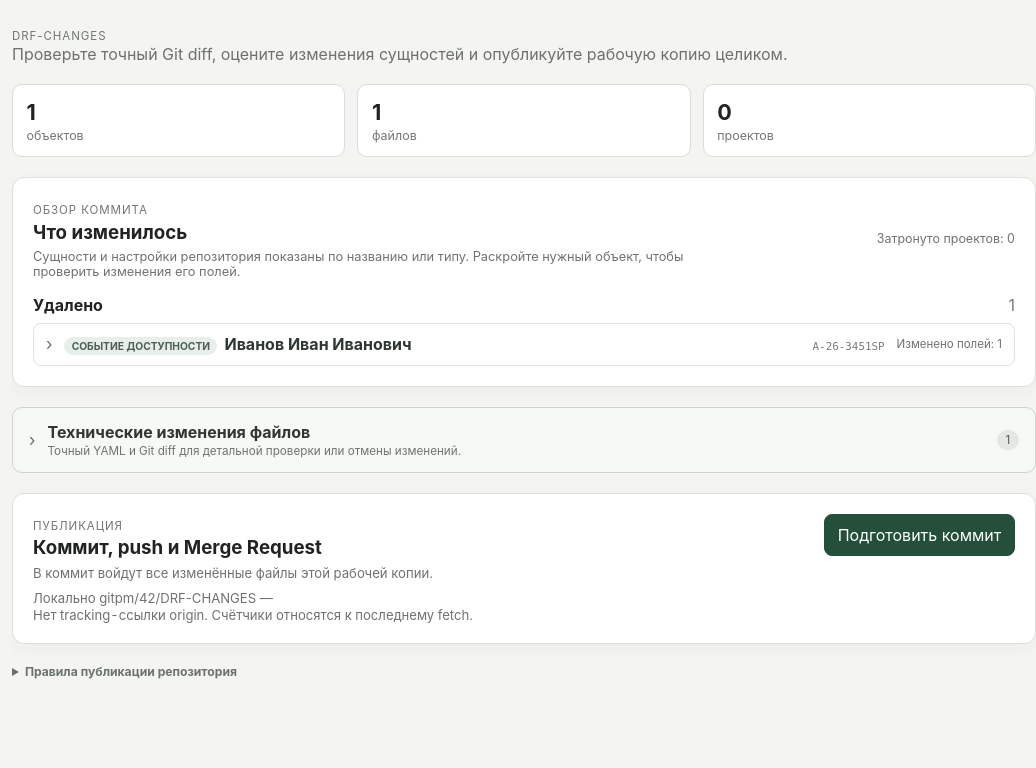
Test: Changes workspace › names deleted availability events after their employee and keeps the event ID secondary
expect the text "Событие доступности" is shown: met, box [64,337,217,355]
expect the text "Иванов Иван Иванович" is shown: met, box [224,334,412,354]
Click the heading that starts with "Событие доступности": click(141, 346) [64,334,1002,355]
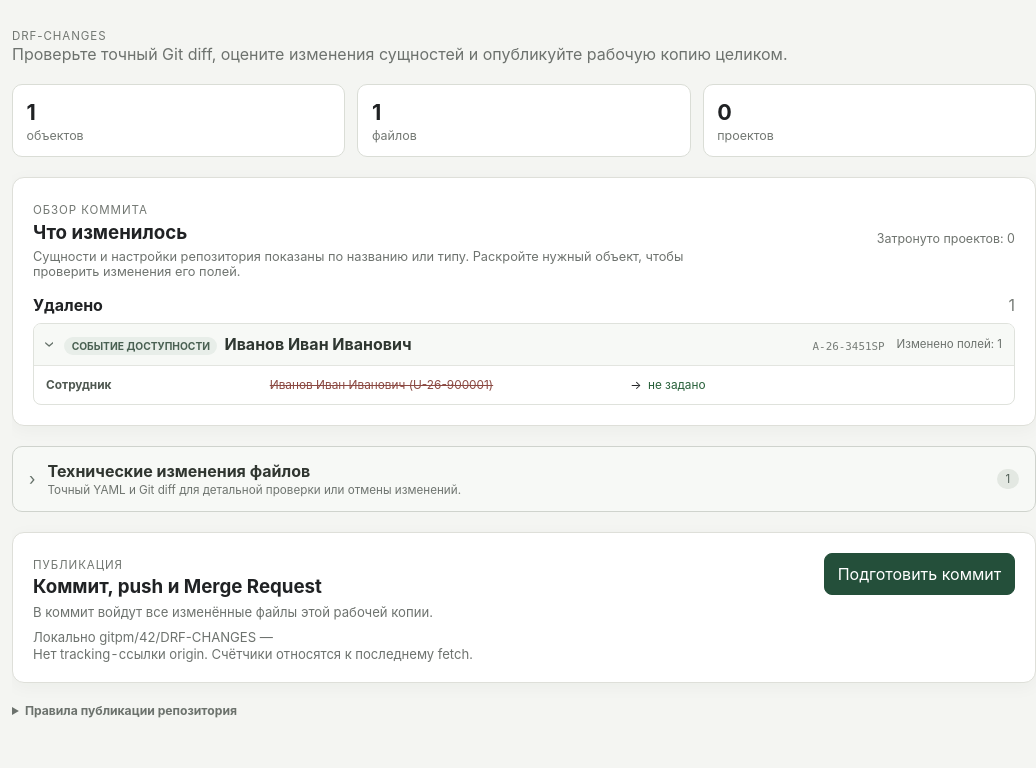
expect the text "Сотрудник" is shown: met, box [46,378,111,392]
expect the text "Иванов Иван Иванович (U-26-900001)" is shown: met, box [270,378,493,392]
